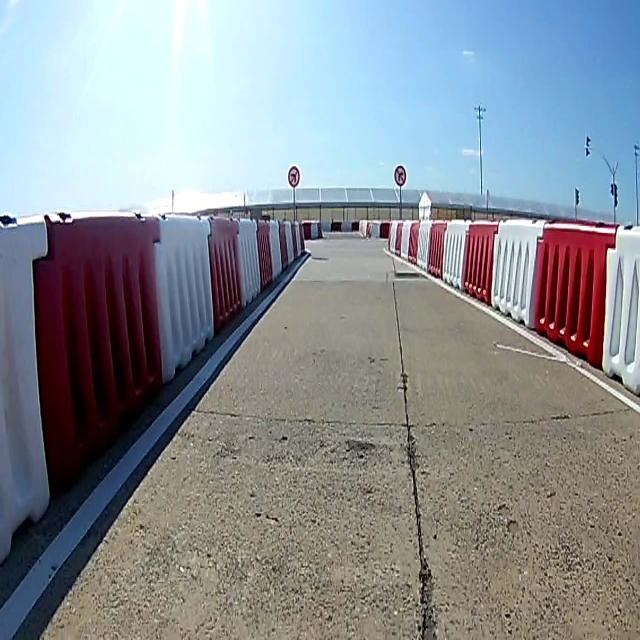sagadonulmez: (394, 165, 408, 187)
soladonulmez: (288, 165, 300, 187)
